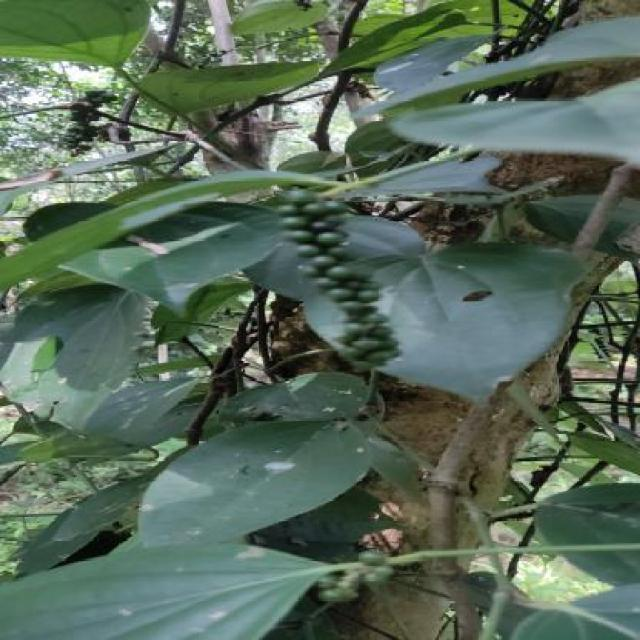UNRIPE: (278, 192, 402, 369), (63, 91, 114, 158), (317, 556, 391, 602)
